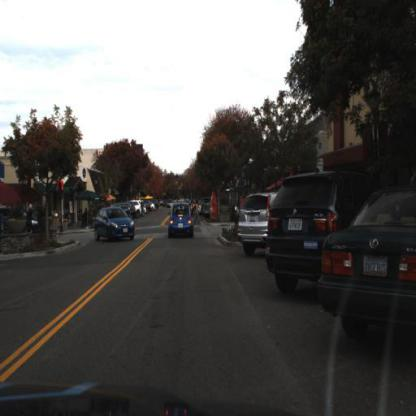car: (323, 184, 416, 345), (265, 171, 324, 297), (236, 190, 292, 259), (93, 204, 137, 245), (166, 197, 197, 245)
pedestrian: (28, 204, 35, 230), (197, 203, 201, 226), (191, 201, 196, 217)
